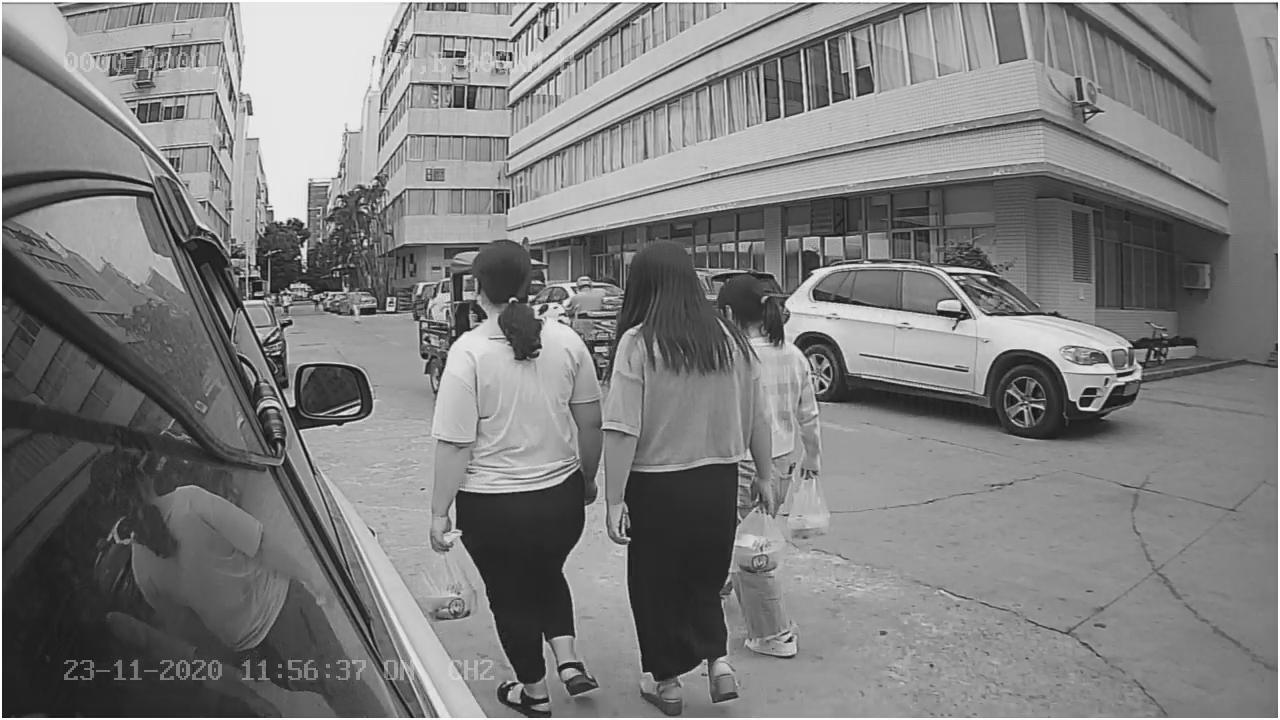person: (412, 228, 605, 715), (594, 241, 776, 704)
